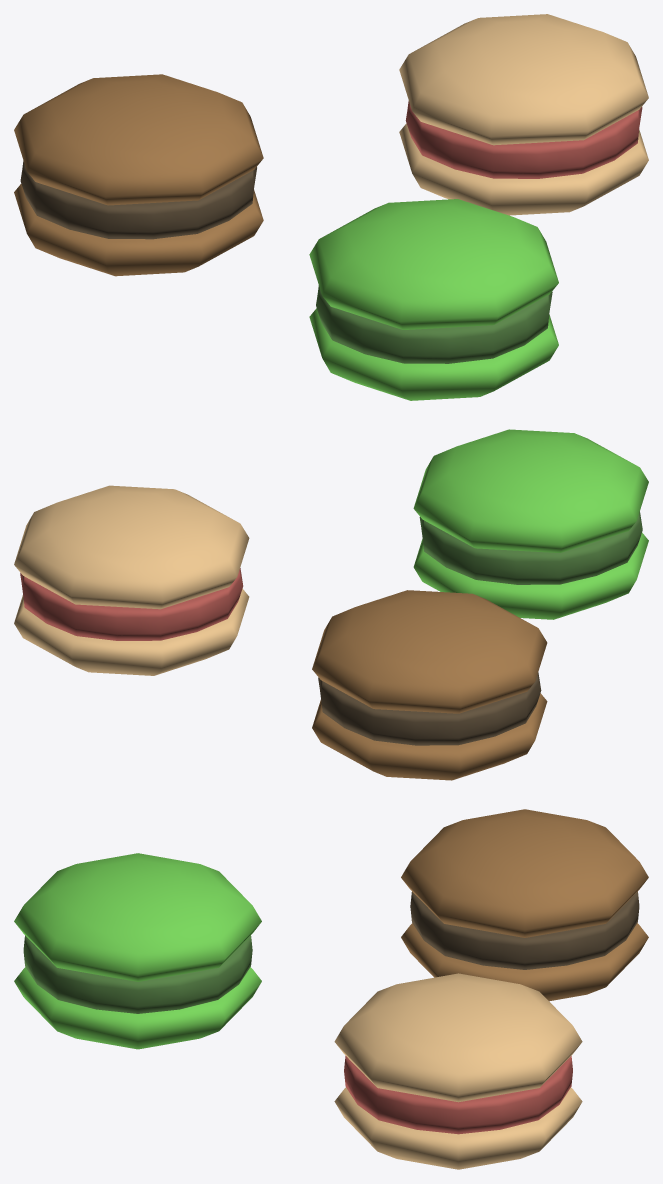
The model's file is rocher macaron.fbx.
3 renders of one model, top to bottom at view 1: azimuth 30°, elevation 25°; view 2: azimuth 150°, elevation 25°; view 3: azimuth 270°, elevation 25°, orthographic. The views are drawn at different scales.
Parts seen in each view (by area): view 1: Sphere.003, Cylinder.002, Cylinder; view 2: Cylinder.002, Cylinder, Sphere.003; view 3: Cylinder, Sphere.003, Cylinder.002.
Boxes of the visible parts, x1,y1,x2,y2 form: Sphere.003: (309,199,558,400); Cylinder.002: (14,74,263,276); Cylinder: (399,14,648,215); Cylinder.002: (312,590,547,780); Cylinder: (14,485,249,675); Sphere.003: (413,429,648,619); Cylinder: (334,973,582,1169); Sphere.003: (14,853,261,1049); Cylinder.002: (401,809,648,1001).
Bounding box in the file's own units: 513 × 133 × 512.
